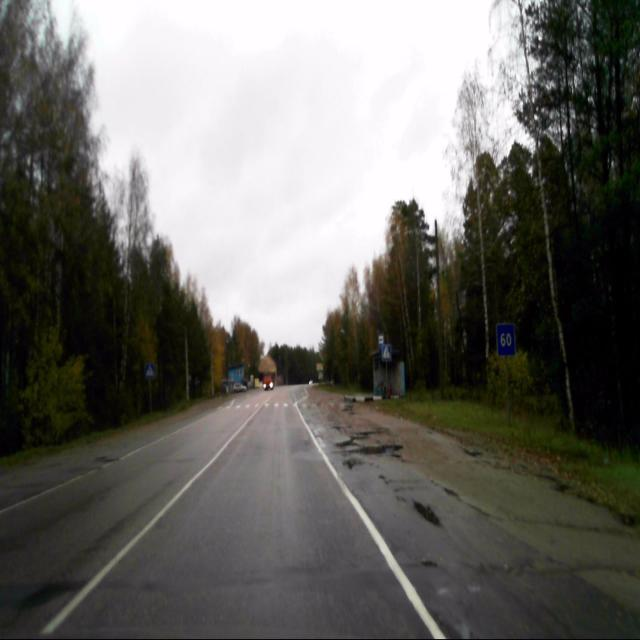road sign: (495, 322, 515, 357), (380, 343, 392, 363), (144, 363, 154, 379)
